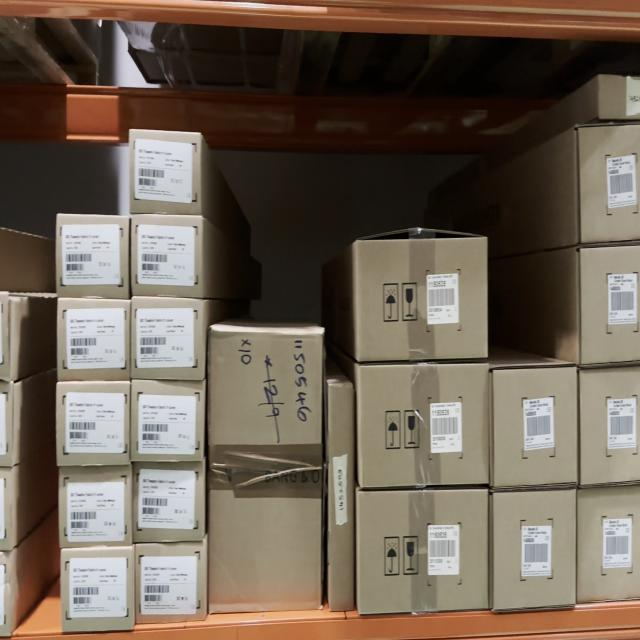box: (210, 331, 320, 609), (361, 365, 488, 487), (358, 491, 488, 609), (357, 242, 488, 358), (491, 368, 576, 487), (491, 494, 575, 606), (580, 250, 640, 365), (579, 128, 640, 241), (579, 371, 640, 483), (578, 492, 640, 600), (129, 132, 201, 215), (132, 300, 202, 380), (58, 384, 128, 464), (59, 216, 127, 298), (62, 548, 131, 628), (131, 384, 204, 459), (60, 468, 131, 544), (60, 302, 129, 380), (134, 465, 203, 541), (132, 220, 202, 294), (137, 546, 204, 623), (330, 388, 352, 608)
